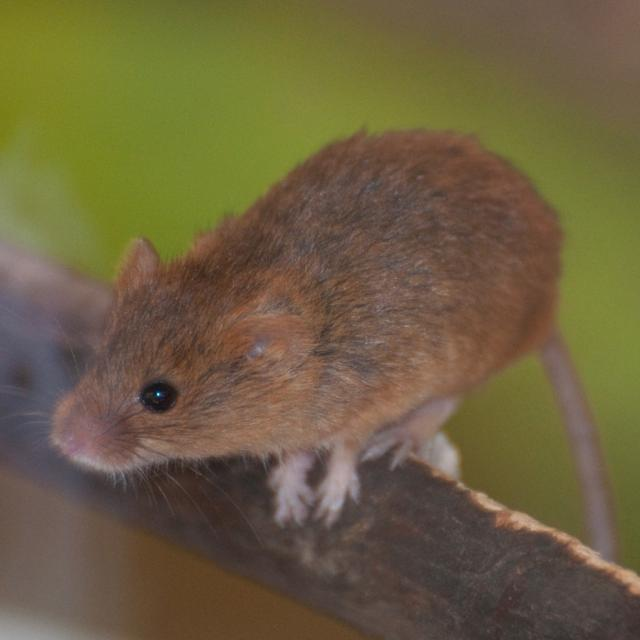rat: (46, 128, 622, 547)
